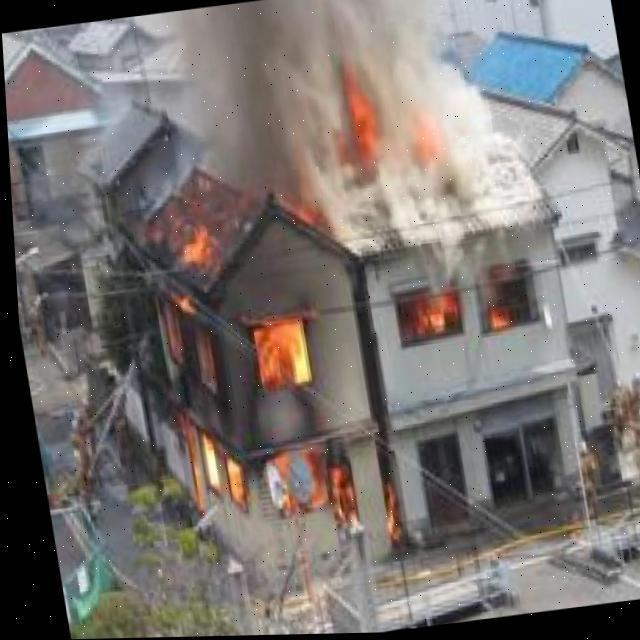fire: (144, 185, 364, 557), (387, 279, 546, 348), (327, 48, 392, 176)
